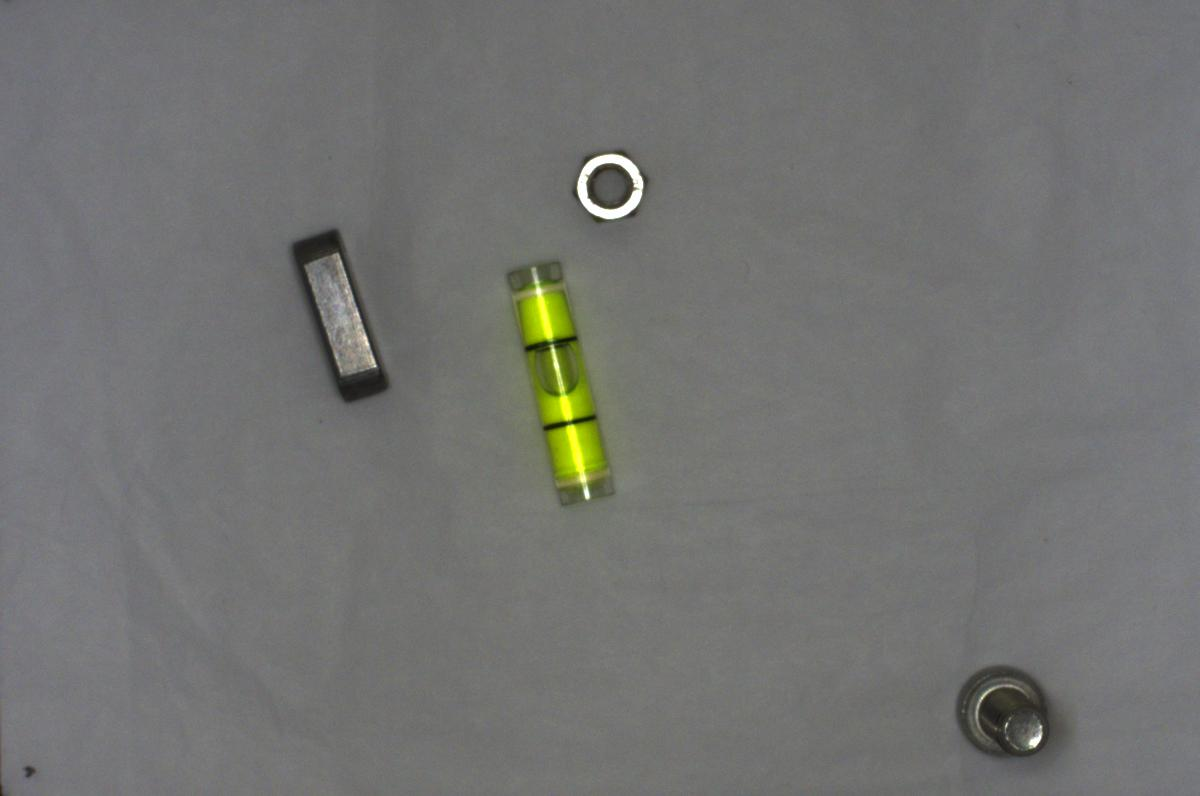Hexagon nut: (566, 146, 647, 228)
Hexagon screw: (947, 659, 1058, 763)
Horizontal bubble: (490, 252, 637, 506)
Keybar: (280, 222, 391, 409)
